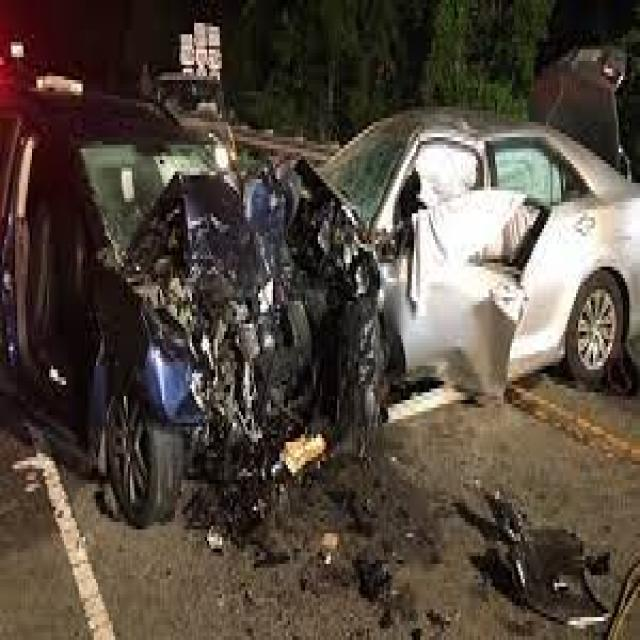accident: (74, 55, 540, 526)
